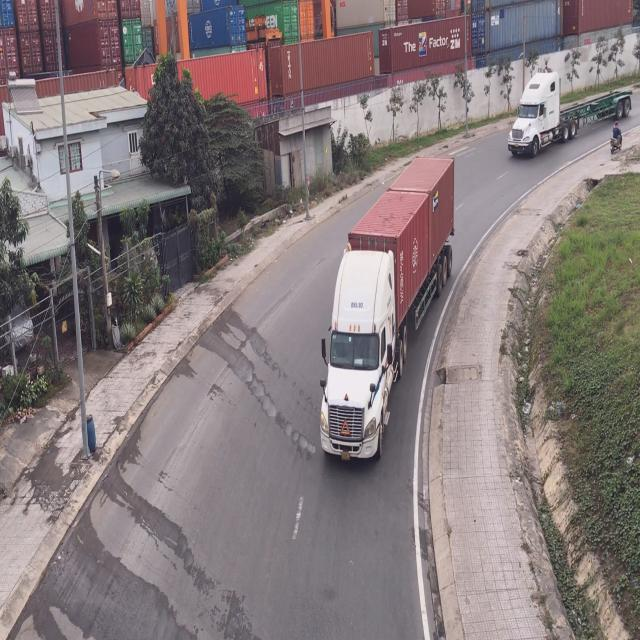motorbike: (612, 121, 624, 158)
truck: (320, 153, 456, 470), (509, 74, 631, 158)
